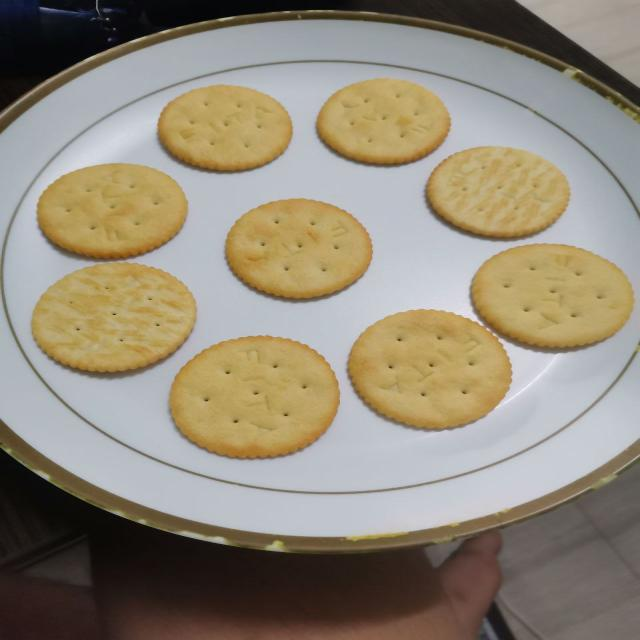intact biscuit: (168, 334, 340, 459), (346, 308, 513, 430), (30, 261, 197, 373), (469, 242, 634, 348), (224, 196, 374, 300), (35, 161, 188, 259), (424, 144, 571, 238), (156, 82, 293, 172), (315, 76, 451, 166)
